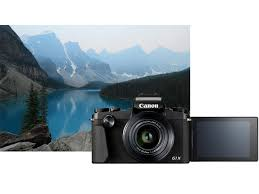camera: (92, 96, 192, 164)
